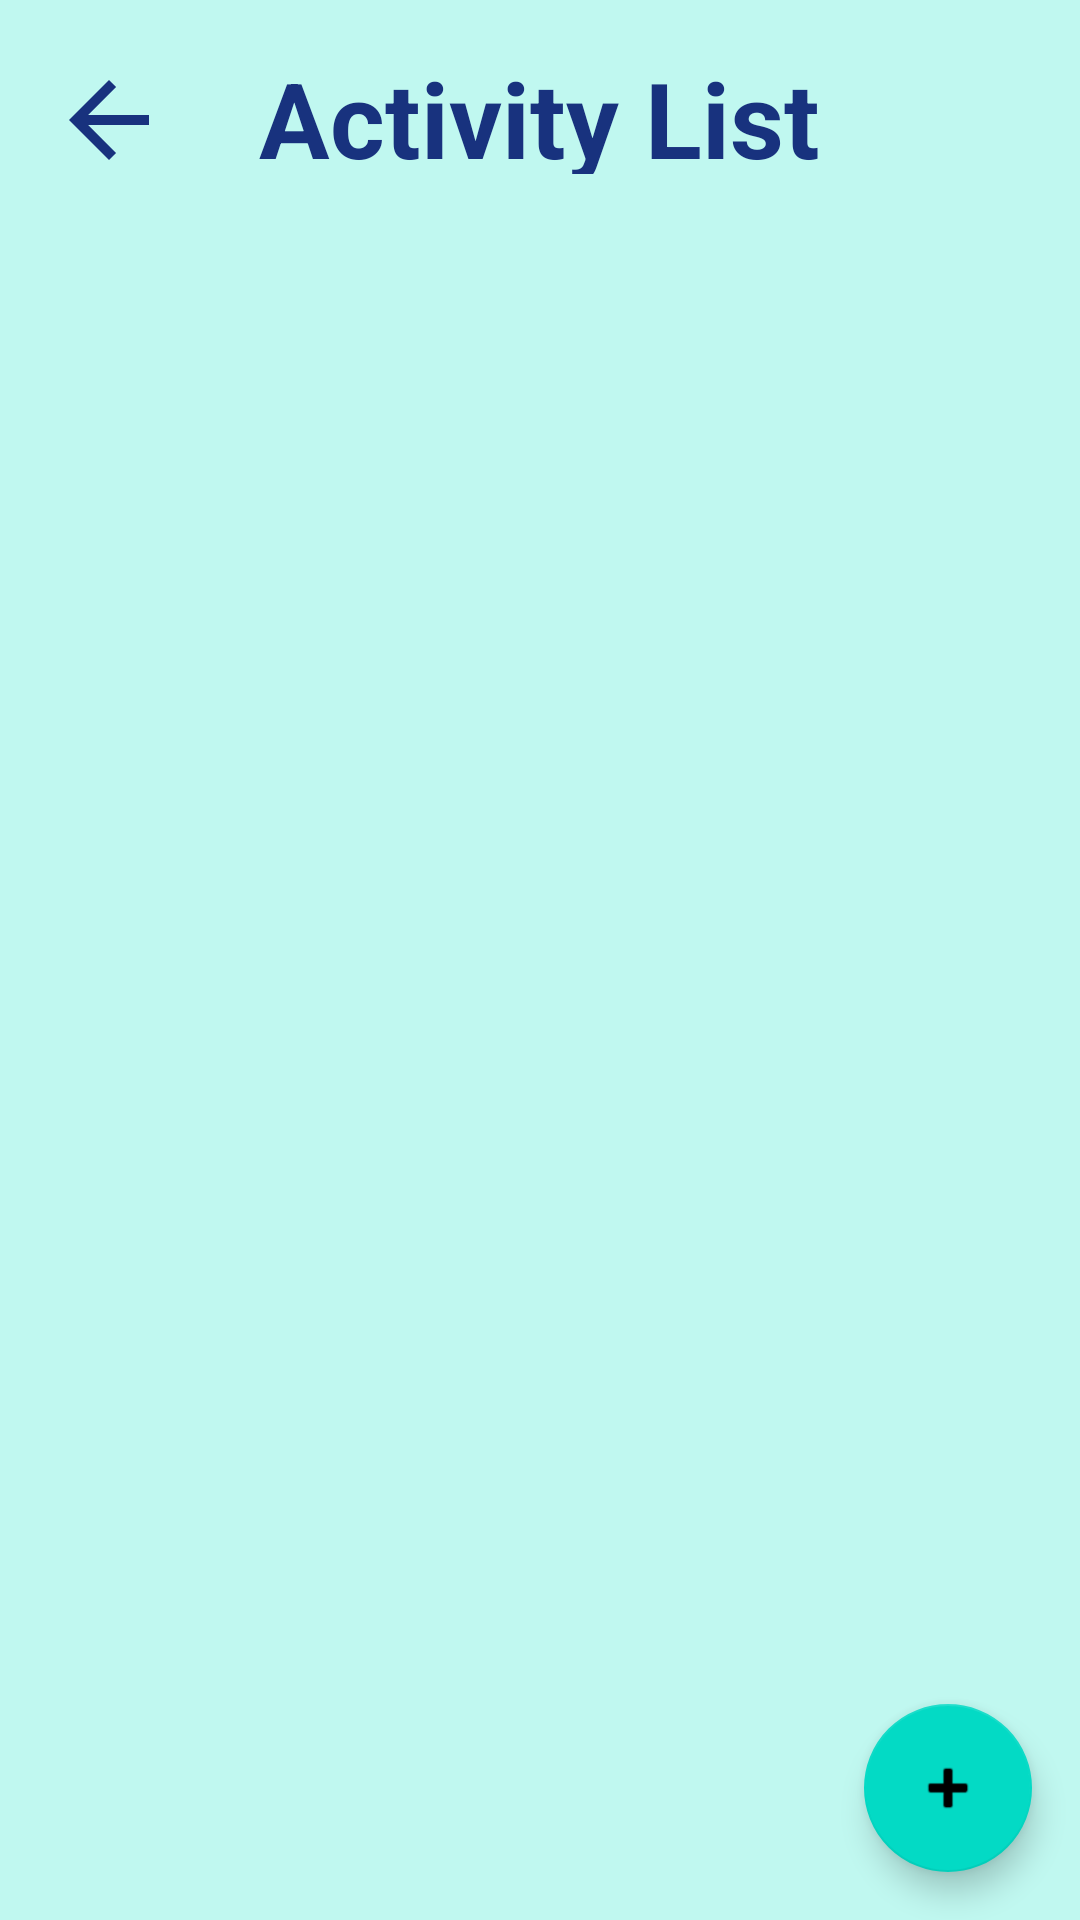

Where icons sit on this 1080 × 1920 app screen, as rect(x1, y1, x2, y2):
back: rect(69, 80, 149, 160)
